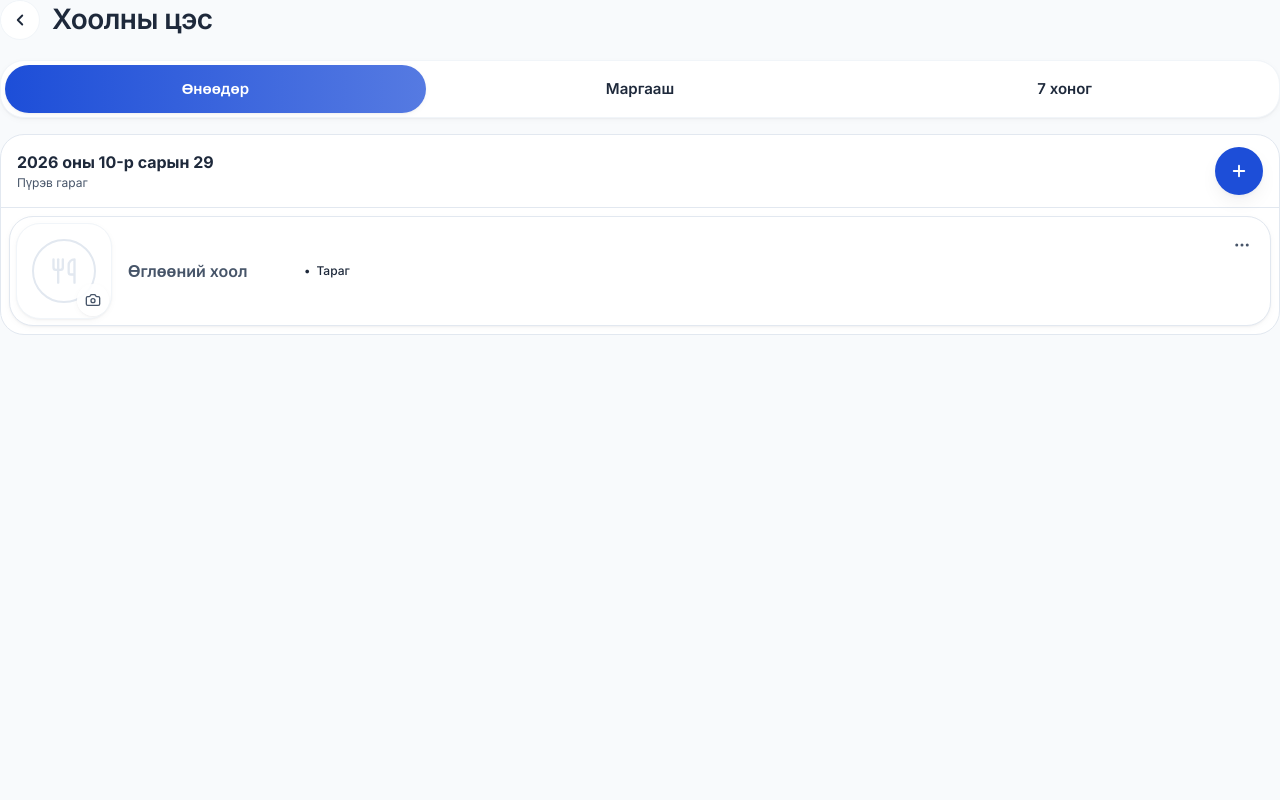
Scenario: the cook's weekly menu › adds a compact meal from Today and gives lunch two dish rows
Click the button named "Хоол нэмэх". click: coordinates (1239, 171)
box: [1215, 147, 1263, 195]
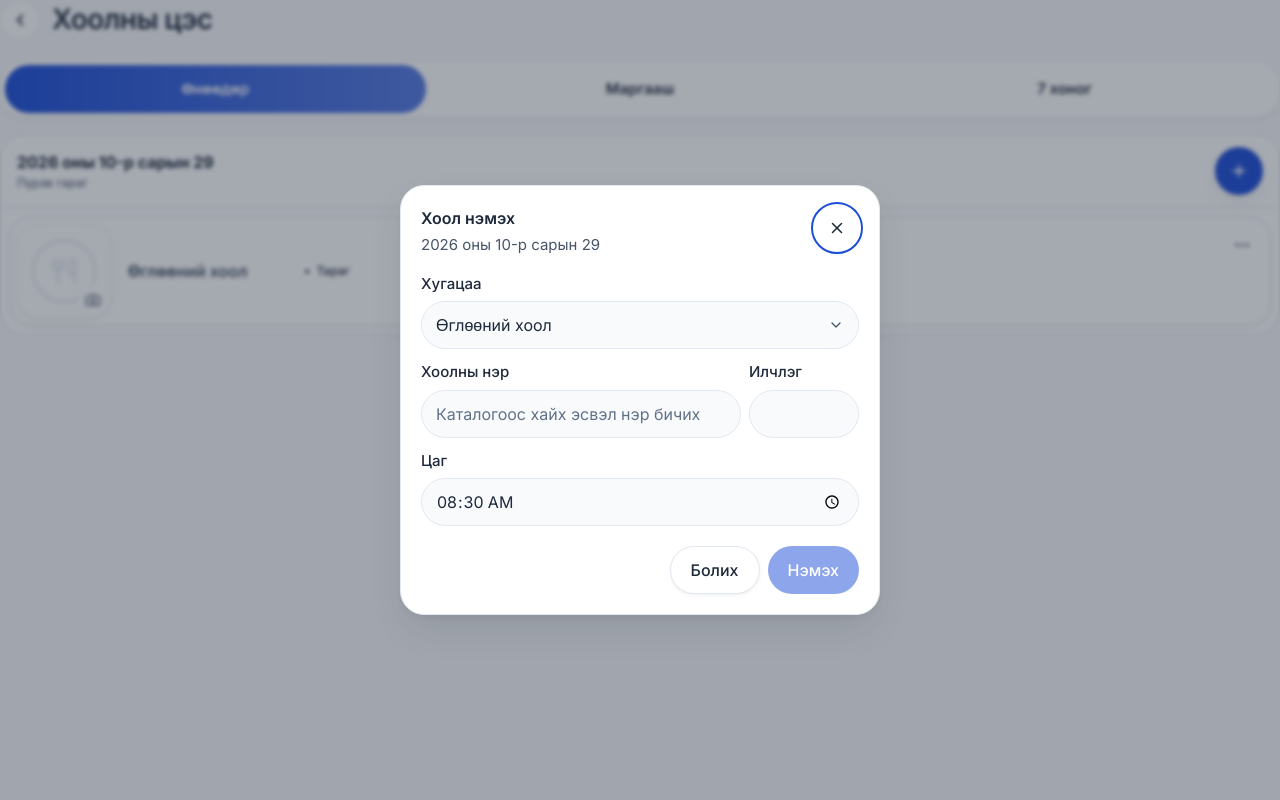
Click the dropdown named "Хугацаа". click: coordinates (494, 325)
box: [421, 301, 859, 349]
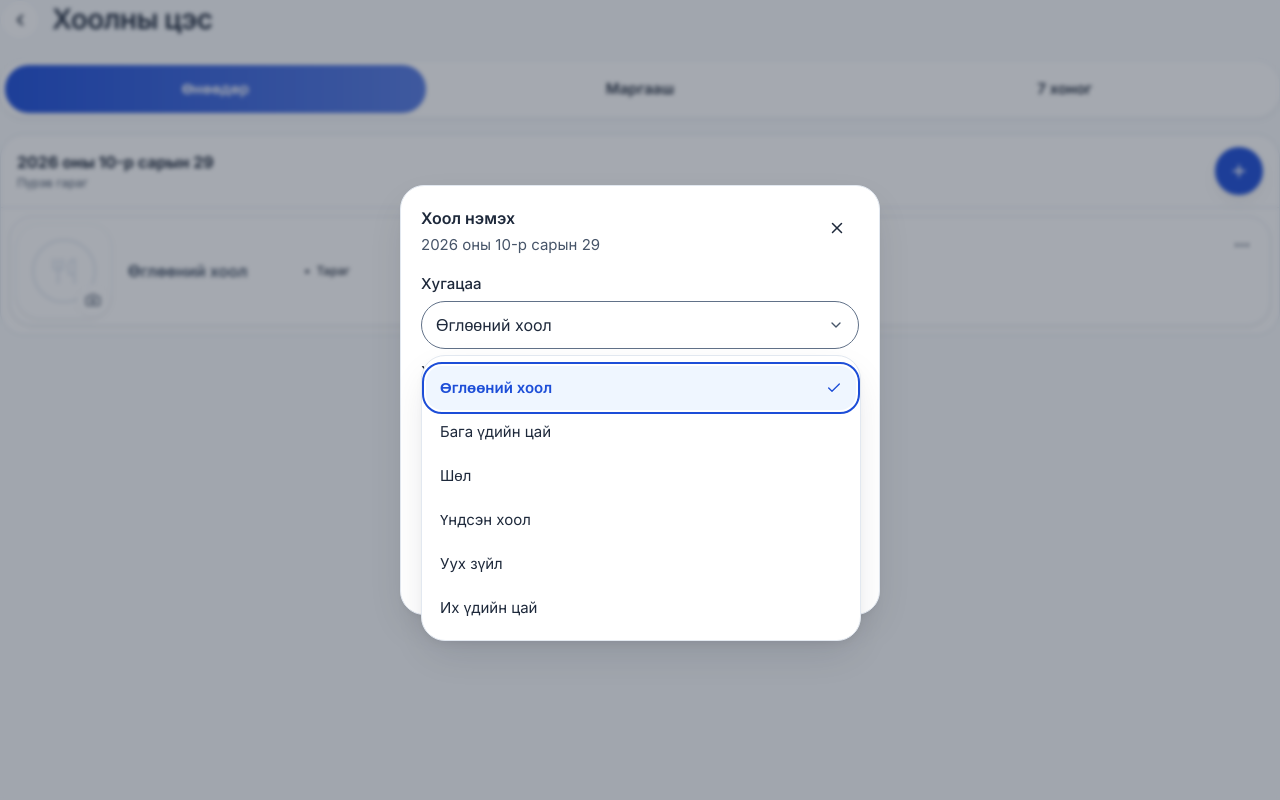
Click the option "Үндсэн хоол". click: coordinates (485, 519)
box: [440, 510, 531, 529]
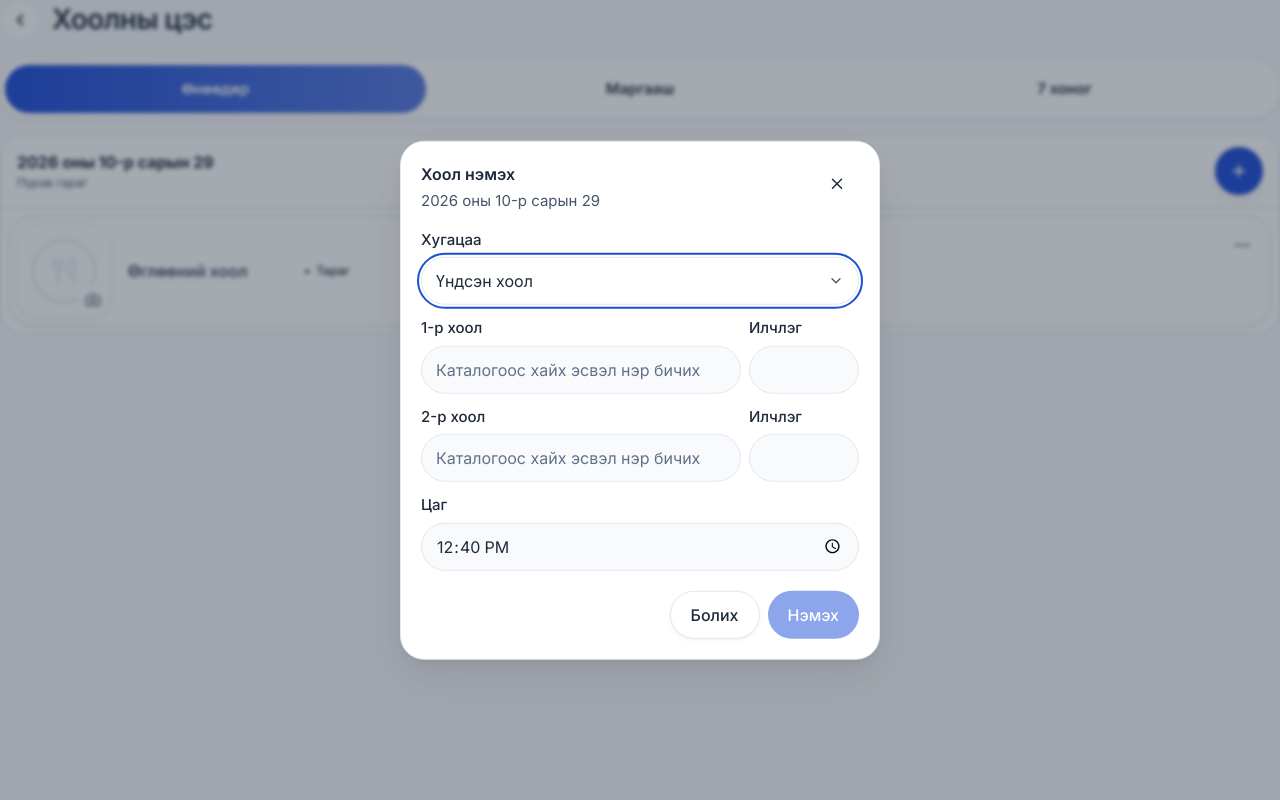
Now the field labelled "1-р хоол" is shown
Now the number of number fields labelled "Илчлэг" is 2, box [749, 345, 859, 393]; [749, 434, 859, 482]
Now the field labelled "2-р хоол" is shown, box [421, 434, 741, 482]
Type "Шөл" into the field labelled "1-р хоол". click: coordinates (581, 369)
box: [421, 345, 741, 393]
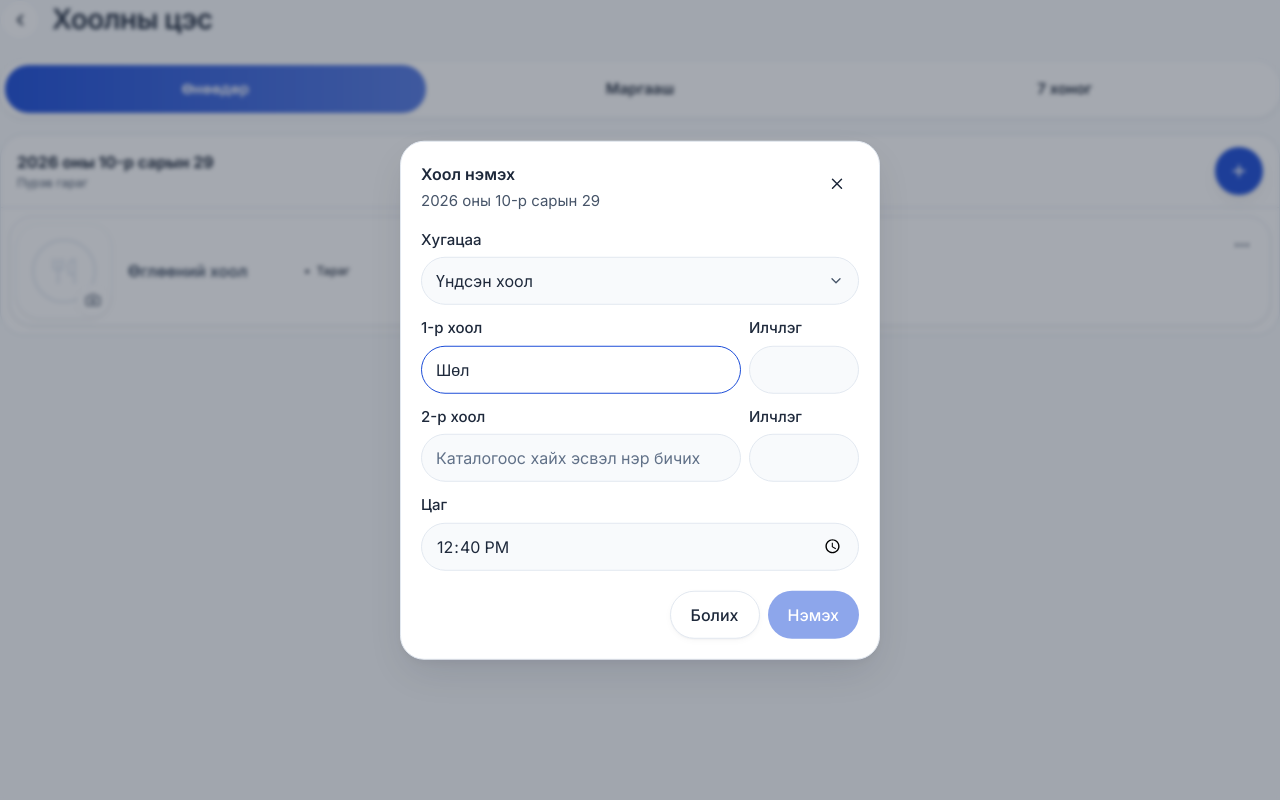
Type "Будаа" into the field labelled "2-р хоол". click: coordinates (581, 458)
box: [421, 434, 741, 482]
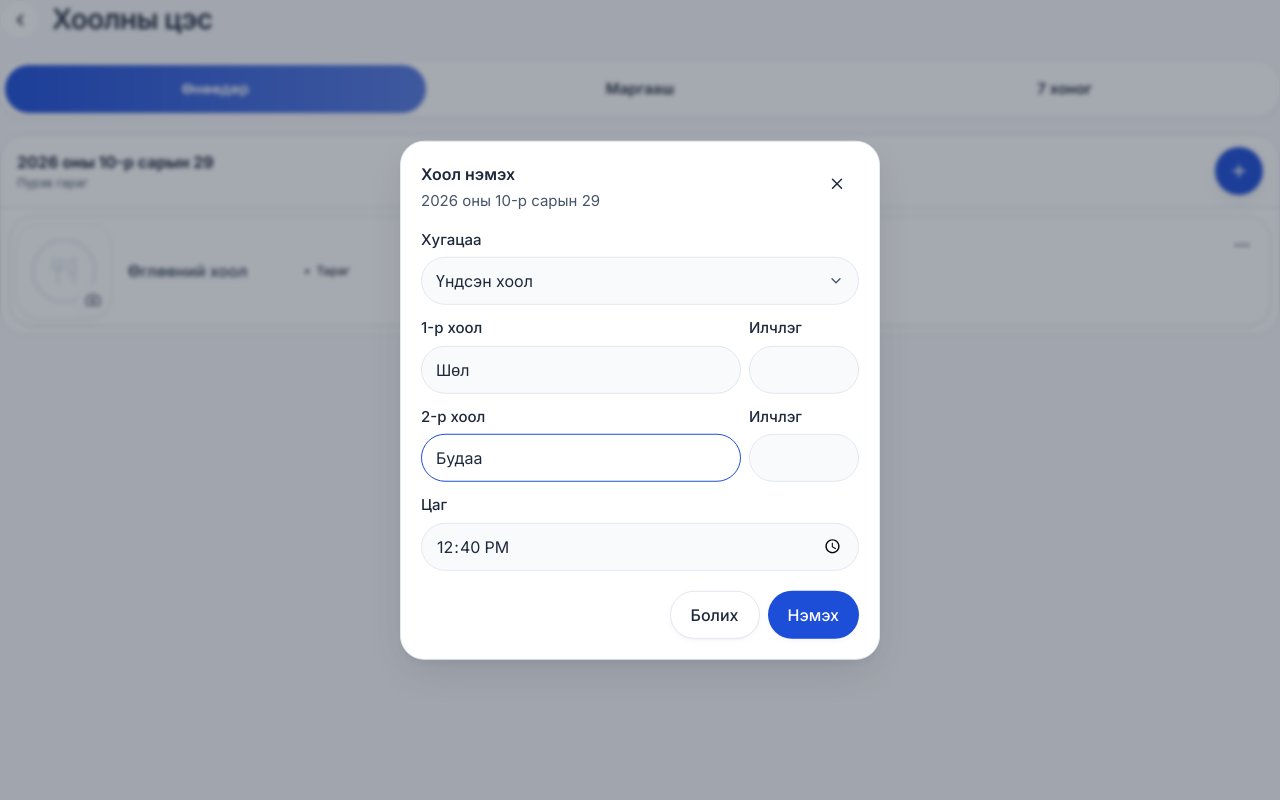
Click the button "Нэмэх". click: coordinates (813, 614)
box: [768, 590, 859, 638]
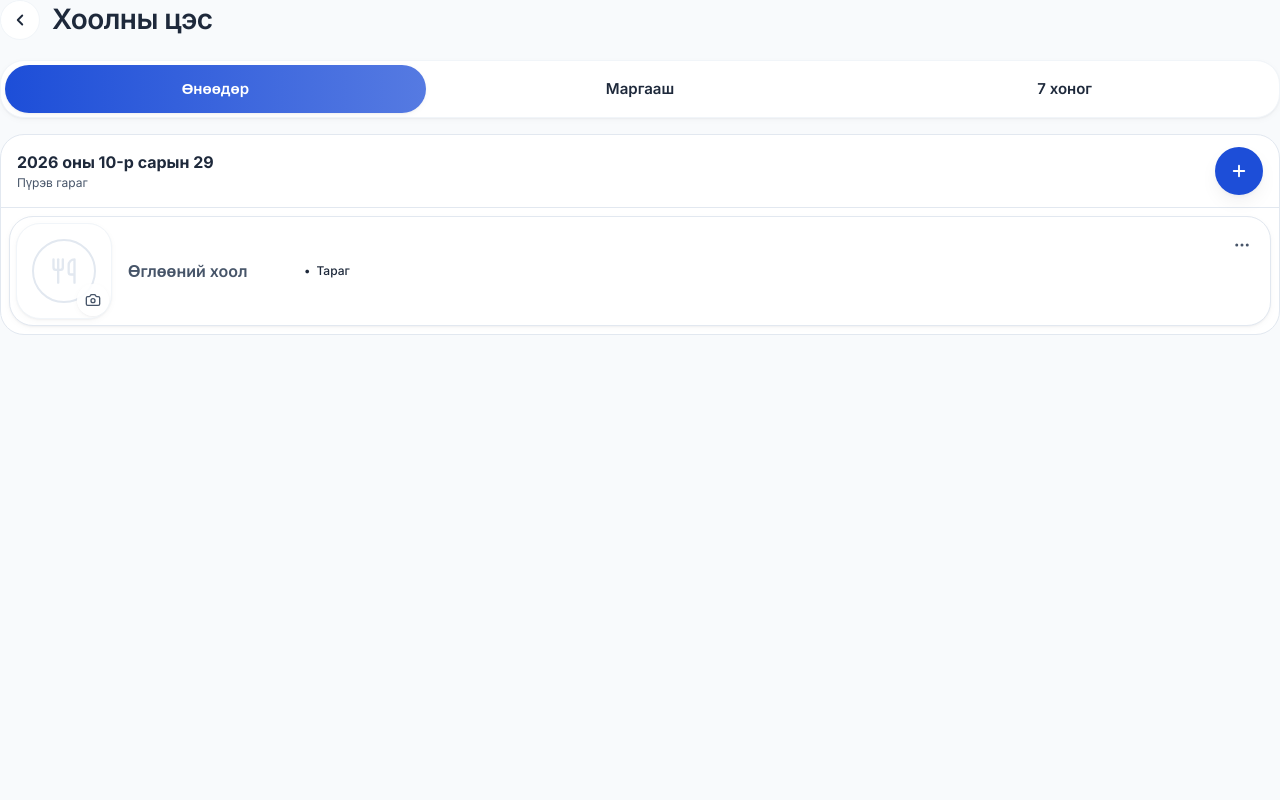
Now the heading "Хоол нэмэх" is gone
